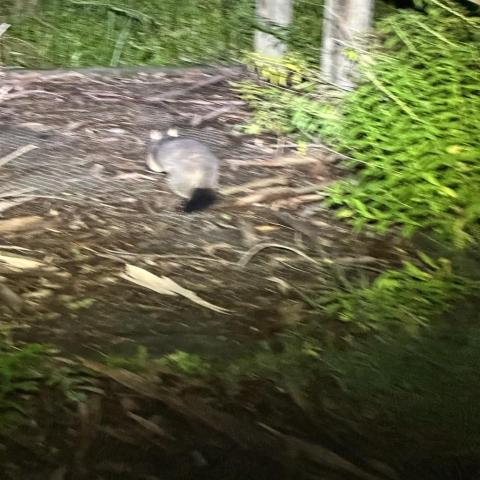small_animal: (144, 126, 222, 212)
